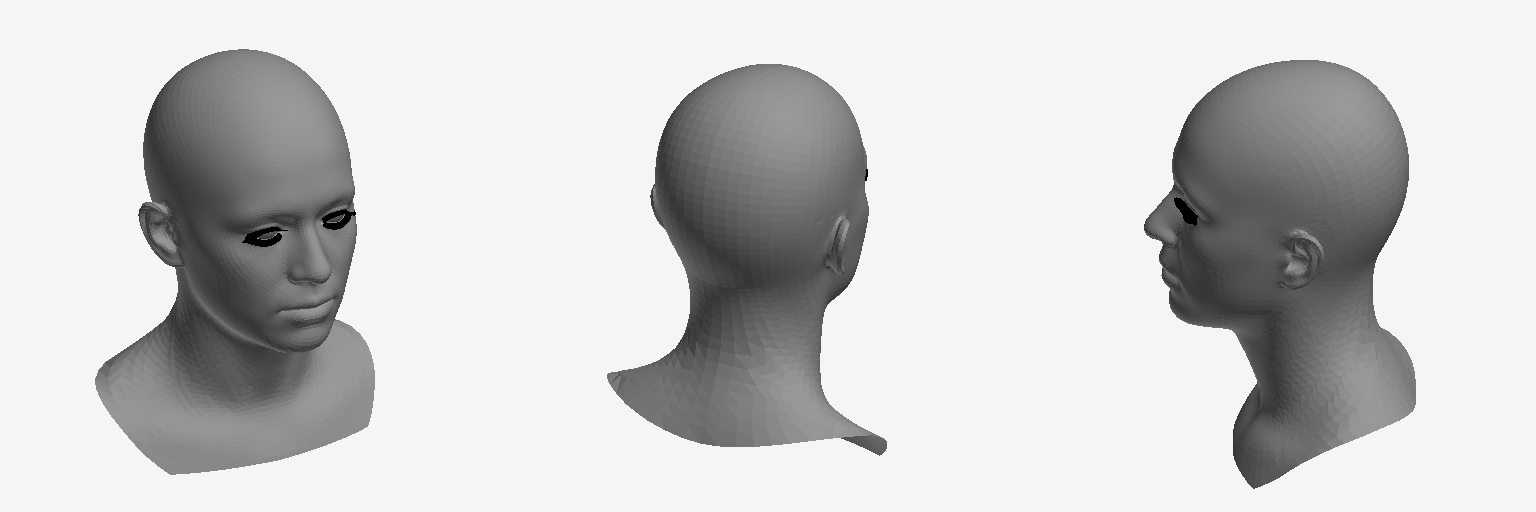
File: identity065.obj
3 views of the same model, side by side, from view 1: azimuth 30°, elevation 25°; view 2: azimuth 150°, elevation 25°; view 3: azimuth 270°, elevation 25° (orthographic).
Size of the model in its own units: 24.83 by 33.81 by 22.33.